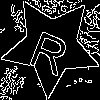R: (26, 21, 76, 77)
